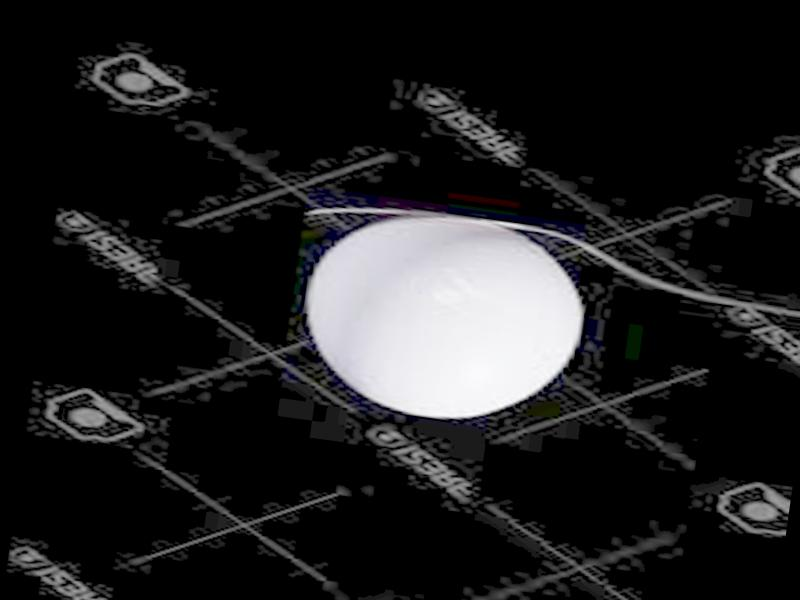Eggs: (293, 198, 594, 433)
